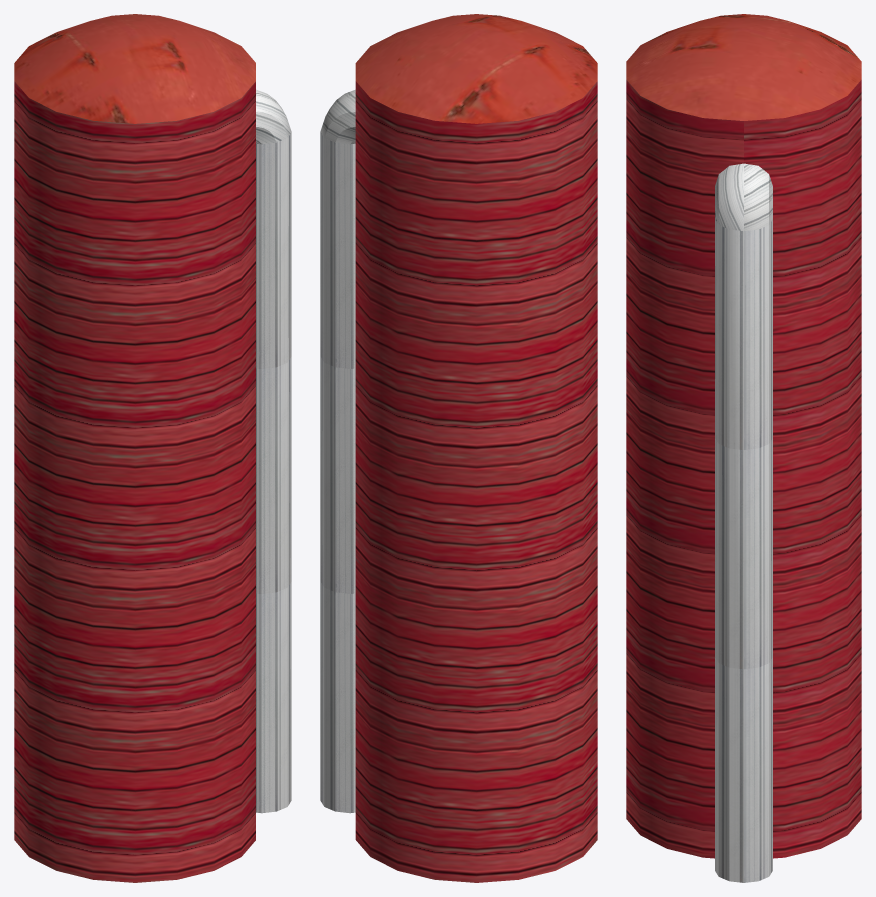
The model's file is SM_Cilo_02.fbx.
3 renders of one model, left to right at view 1: azimuth 30°, elevation 25°; view 2: azimuth 150°, elevation 25°; view 3: azimuth 270°, elevation 25°, orthographic. The views are drawn at different scales.
Visible parts, largest first — view 1: Cylinder, Cylinder.001; view 2: Cylinder, Cylinder.001; view 3: Cylinder, Cylinder.001.
Part boxes in pixels (x1=…): Cylinder: x1=14, y1=14, x2=255, y2=882; Cylinder.001: x1=256, y1=89, x2=291, y2=813; Cylinder: x1=355, y1=14, x2=597, y2=882; Cylinder.001: x1=320, y1=89, x2=355, y2=813; Cylinder: x1=626, y1=14, x2=861, y2=858; Cylinder.001: x1=715, y1=163, x2=772, y2=882.
Bounding box in the file's own units: 117 × 345 × 94.54.
